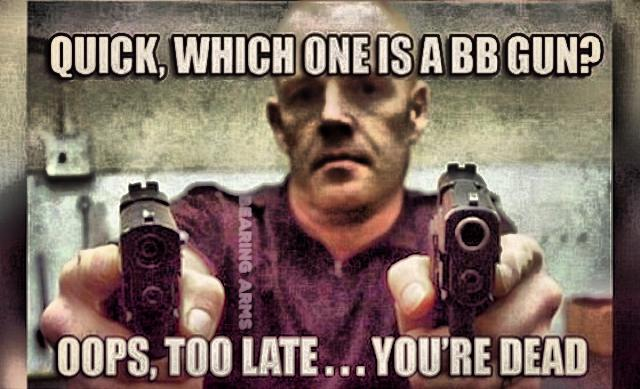pistol: (428, 158, 504, 350), (112, 173, 184, 355)
